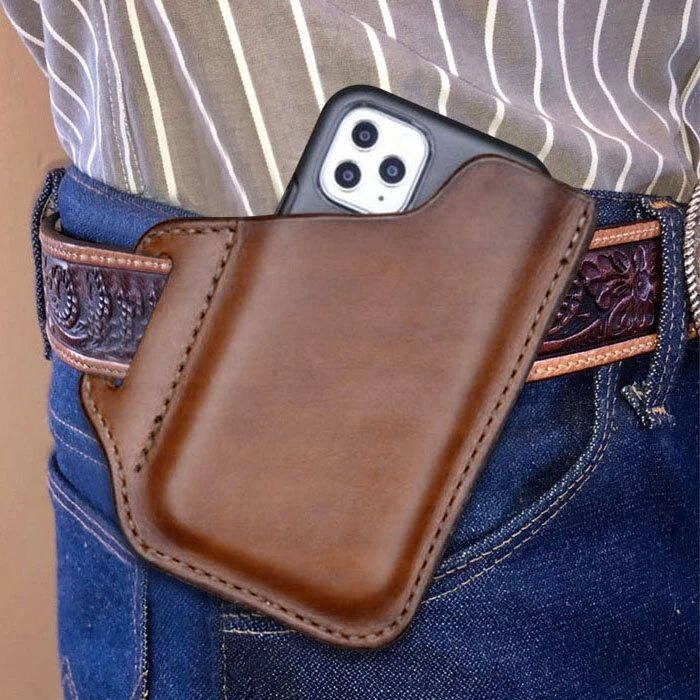cuero: (38, 153, 700, 649)
